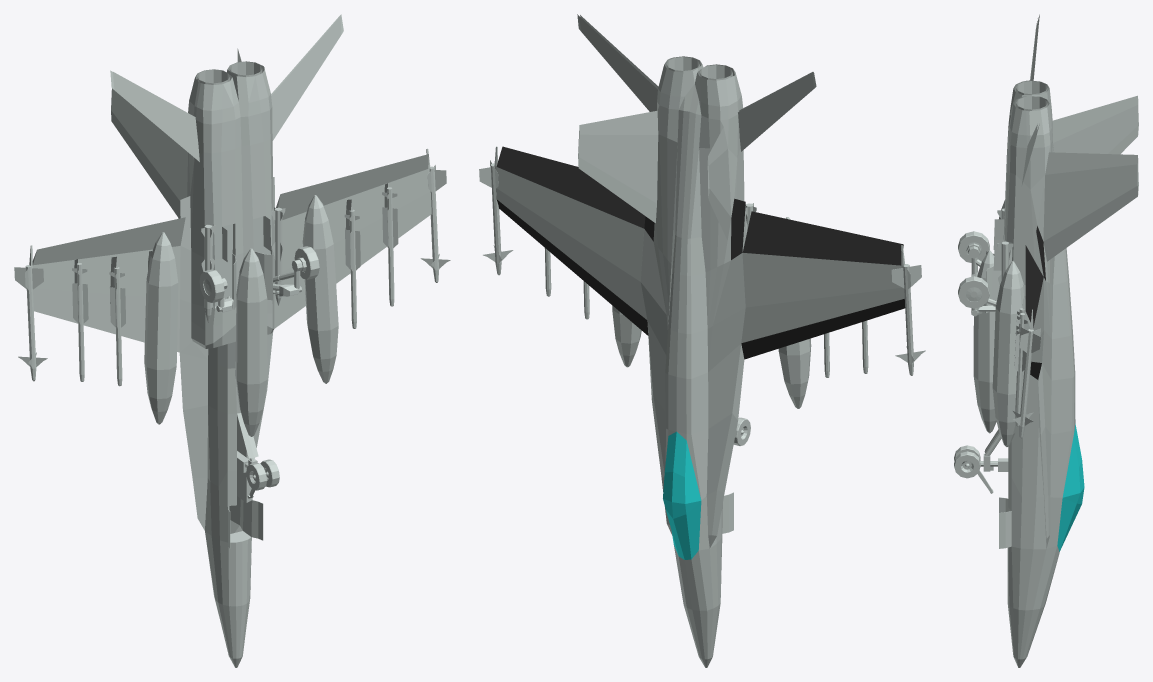
3 renders of one model, left to right at view 1: azimuth 30°, elevation 25°; view 2: azimuth 150°, elevation 25°; view 3: azimuth 270°, elevation 25°, orthographic. The views are drawn at different scales.
Visible parts, largest first — view 1: aircraft; view 2: aircraft; view 3: aircraft.
Part boxes in pixels (box(x1,y1,x2,y2)): aircraft: box(14, 14, 450, 667); aircraft: box(479, 14, 925, 667); aircraft: box(954, 14, 1138, 667).
Size of the model in its own units: 371 by 519 by 145.
